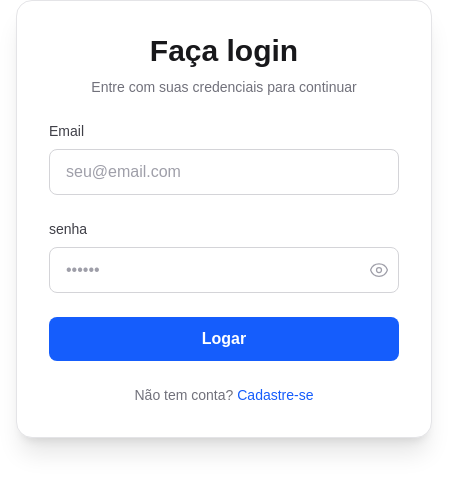
LoginComponent › should error email when hints the button
The width and height of the screenshot is (449, 500).
Type "xlzthiaggmail.com" into the field labelled "Email".
click(224, 172); type("xlzthiaggmail.com")  # box [49, 149, 399, 195]
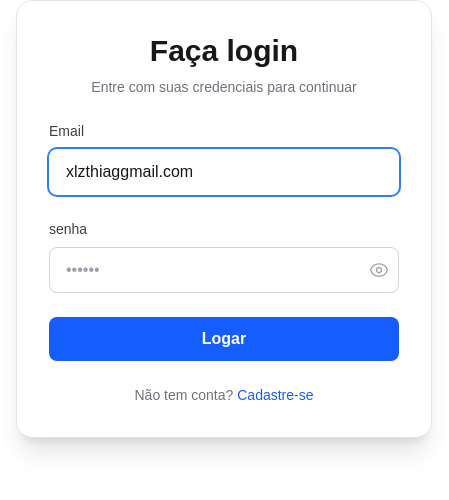
Type "123456" into the password field labelled "senha".
click(224, 270); type("123456")  # box [49, 247, 399, 293]
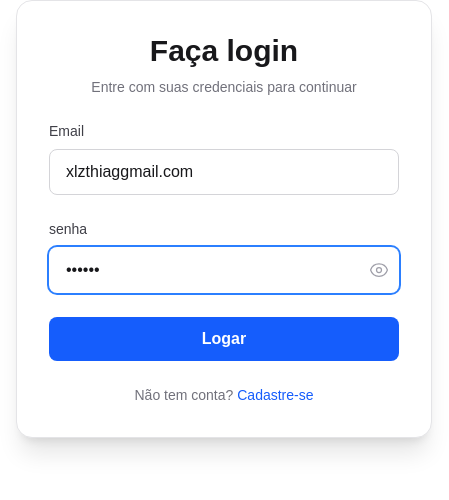
Click the button "Logar".
click(224, 339)  # box [49, 317, 399, 361]
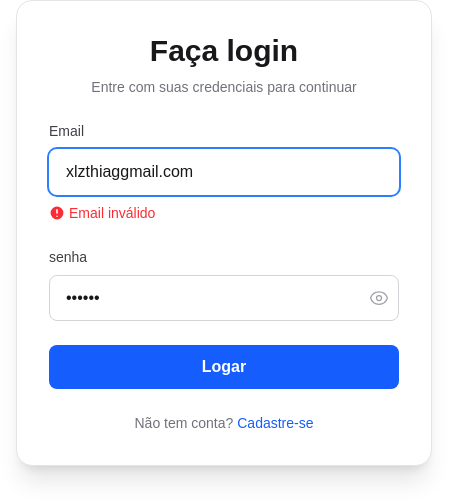
Check: the text "Email inválido" is shown, box [49, 205, 155, 221]
